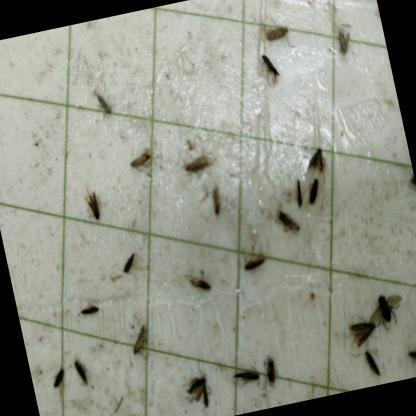prays_oleae: (364, 282, 412, 340), (256, 10, 305, 63), (179, 366, 217, 416), (346, 301, 383, 350), (271, 198, 305, 246), (122, 144, 160, 180), (238, 245, 272, 284), (115, 246, 148, 285), (180, 146, 216, 180), (92, 85, 121, 127), (80, 185, 108, 228), (304, 132, 330, 178), (331, 19, 358, 63), (256, 45, 284, 87), (122, 326, 158, 356), (227, 362, 262, 392), (258, 352, 284, 392), (206, 180, 228, 220), (304, 170, 326, 209), (358, 346, 381, 380), (76, 294, 102, 324), (288, 175, 307, 216), (47, 360, 72, 390), (190, 270, 224, 292), (71, 354, 90, 388), (402, 333, 416, 377), (370, 0, 384, 37), (404, 158, 416, 195)
